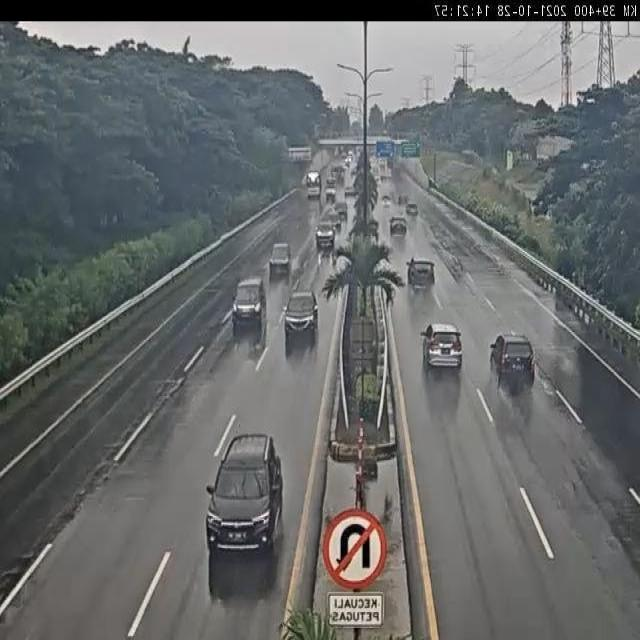Bus: (304, 172, 325, 204)
Car: (184, 427, 293, 563), (489, 332, 535, 390), (283, 289, 319, 350), (421, 322, 462, 373), (232, 276, 266, 334), (406, 258, 436, 292), (269, 243, 291, 277), (315, 222, 335, 248), (388, 216, 408, 238), (334, 200, 348, 220), (406, 203, 418, 216)
